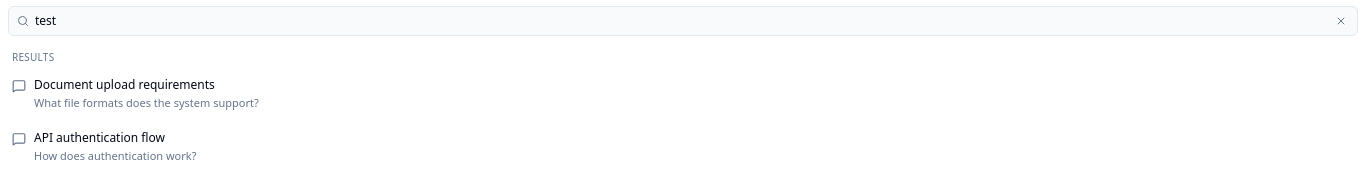
it: ConversationSearchInput › shows clear button when input has value
The width and height of the screenshot is (1366, 177).
Step 1. Click the button named "clear search" → click(1341, 21), box [1333, 13, 1349, 29]
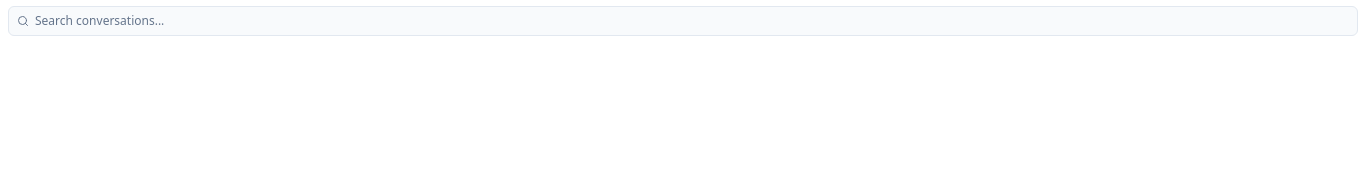
Expected: the field with placeholder "Search conversations..." is empty, [35, 13, 1349, 29]
